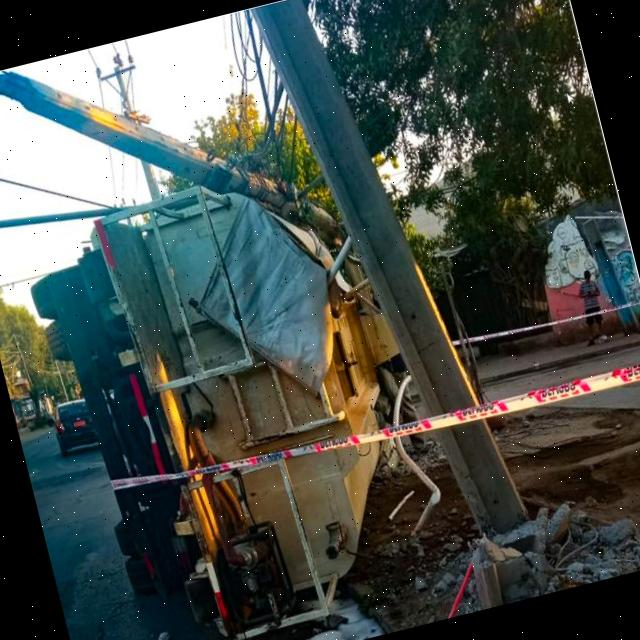Broken Pole: (249, 1, 531, 524), (0, 70, 332, 234)
